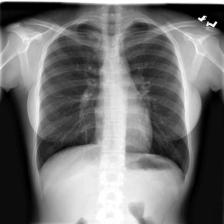normal: (34, 16, 194, 186)
